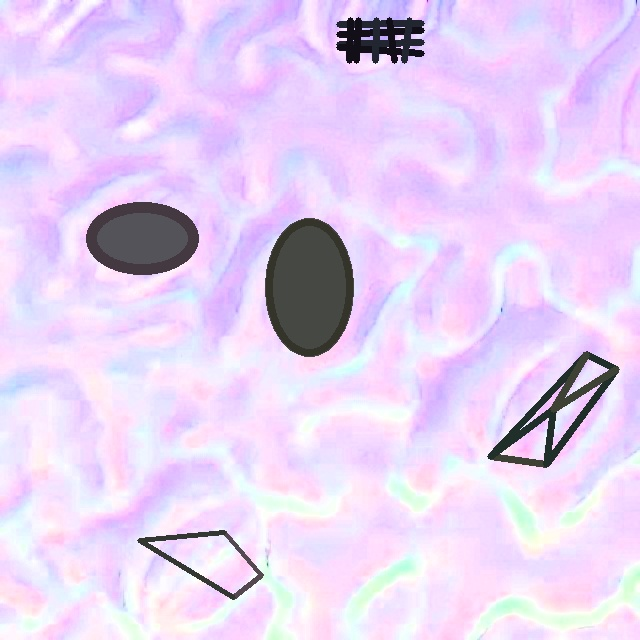open: (488, 352, 618, 466), (265, 218, 353, 356), (137, 530, 263, 599), (86, 202, 197, 273), (336, 17, 424, 63)
